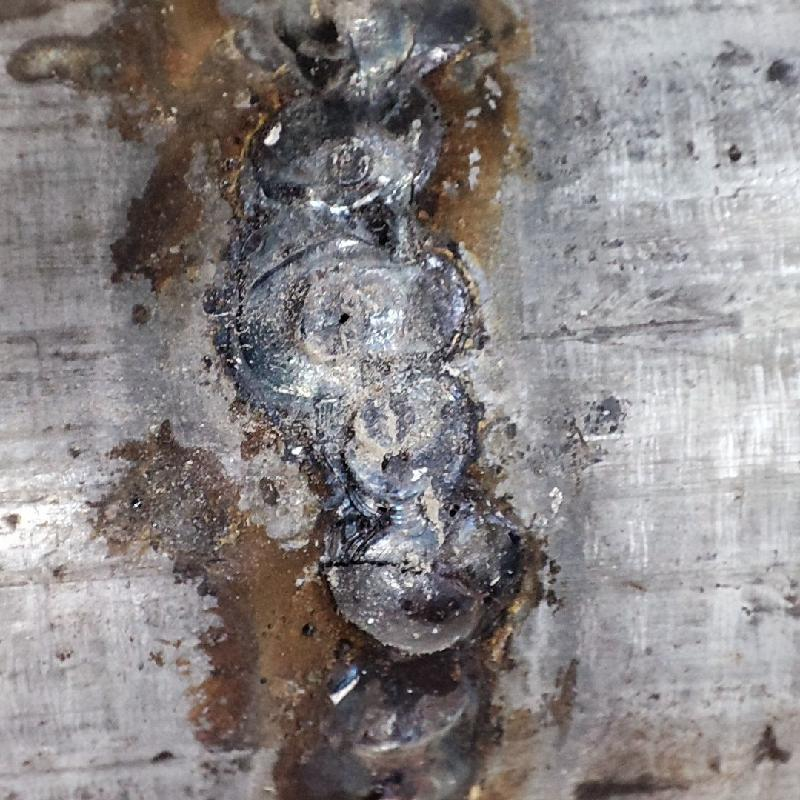Not_fully_soldered: (225, 3, 483, 634)
Surface_pores: (298, 279, 373, 348)
